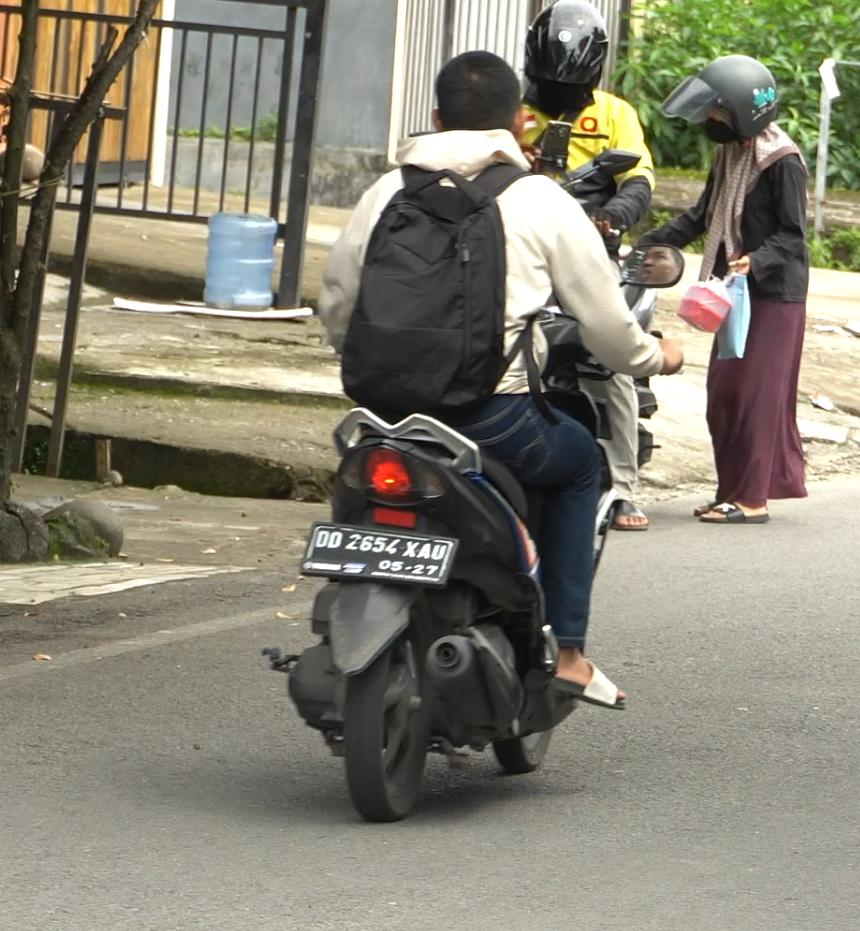number-plate: (288, 518, 456, 585)
